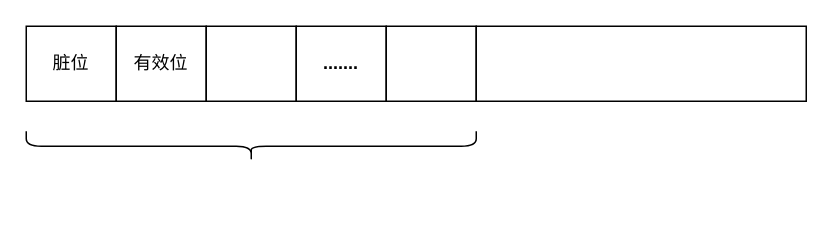
Some shapes in this 833 by 233 pixel diagram are drawn without their labels. Each missing label, with the centre of its shape:
"一系列的标志位" goes at point 250,145.
"内存块数据" goes at point 640,63.
